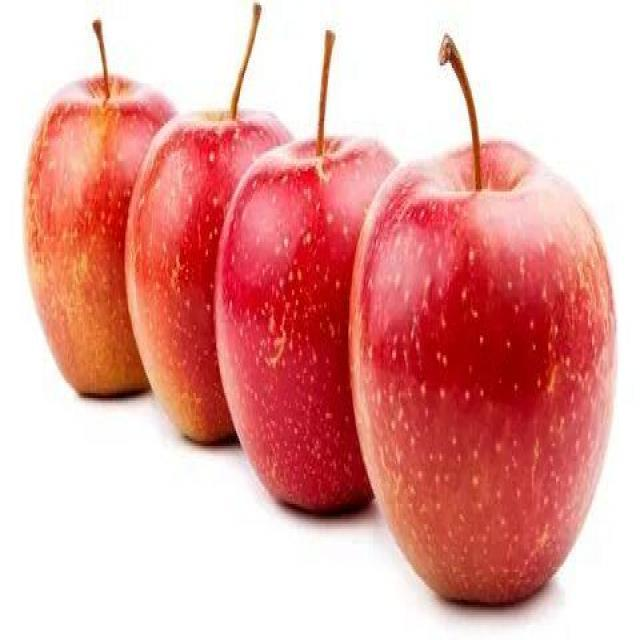Fresh Apple: (368, 156, 609, 640), (228, 138, 374, 524), (119, 125, 234, 455), (27, 85, 146, 403)
